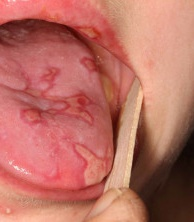SJS-TEN: (0, 46, 109, 163), (76, 44, 127, 107), (71, 139, 117, 195), (72, 14, 108, 53)
